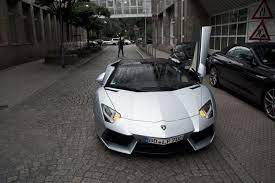Lamborghini: (94, 55, 215, 153)
